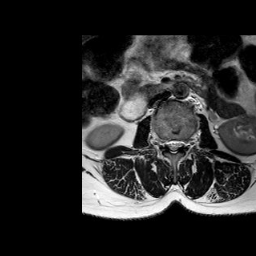CCS_normal: (170, 130, 175, 159)
LFS_normal: (181, 132, 188, 153)
LLS_normal: (175, 131, 181, 153)
RFS_normal: (158, 130, 164, 153)
RLS_stenosis: (164, 131, 170, 153)
